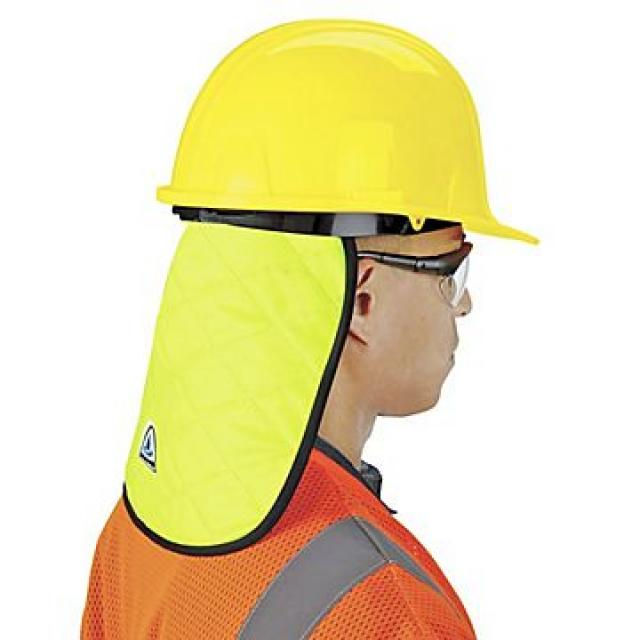Reflective-Jacket: (37, 434, 519, 638)
Safety-Helmet: (153, 15, 535, 236)
